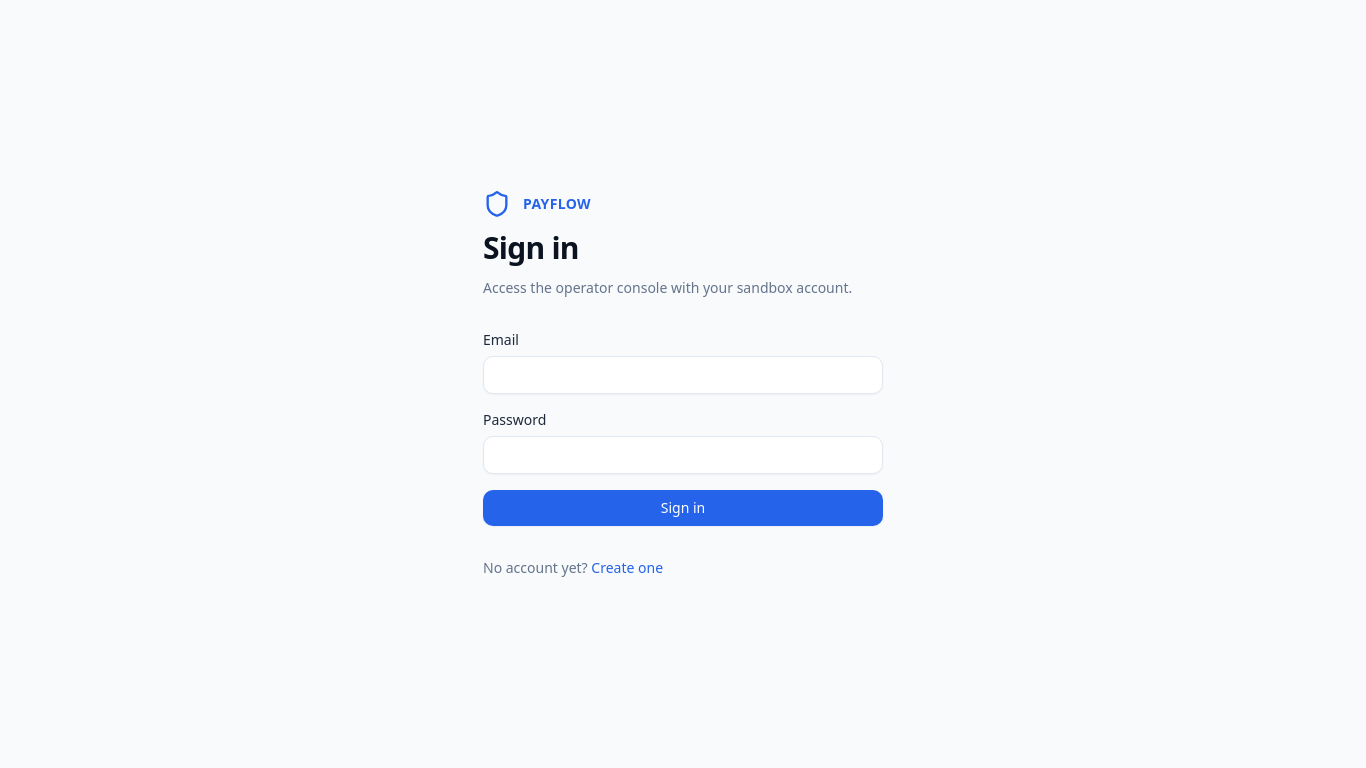
Test case: login and registration UI › logs in successfully and lands on the dashboard
The width and height of the screenshot is (1366, 768).
Expected: the heading "Sign in" is shown, left=483, top=227, right=579, bottom=268
Type "operator@example.com" into the field labelled "Email" at (683, 375), box left=483, top=356, right=883, bottom=394
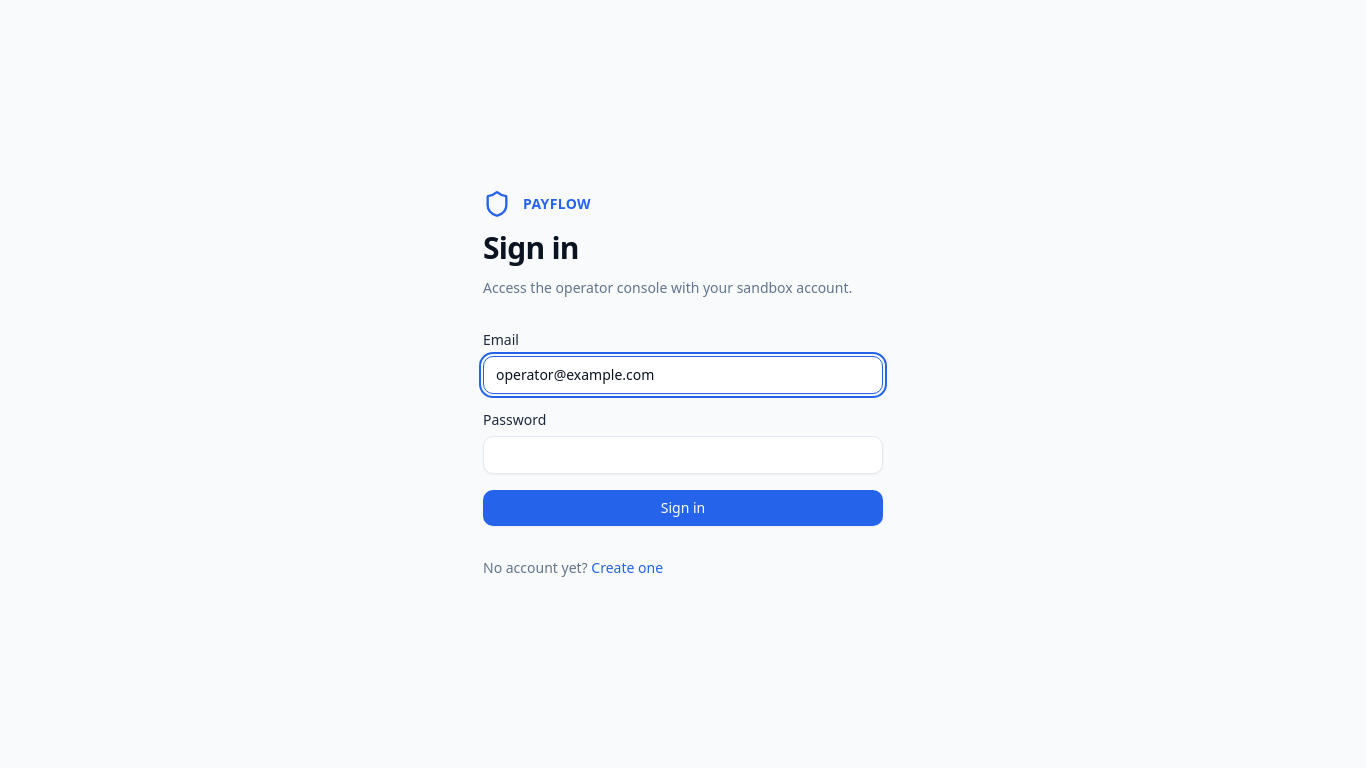
Type "Str0ngPass!" into the password field labelled "Password" at (683, 455), box left=483, top=436, right=883, bottom=474
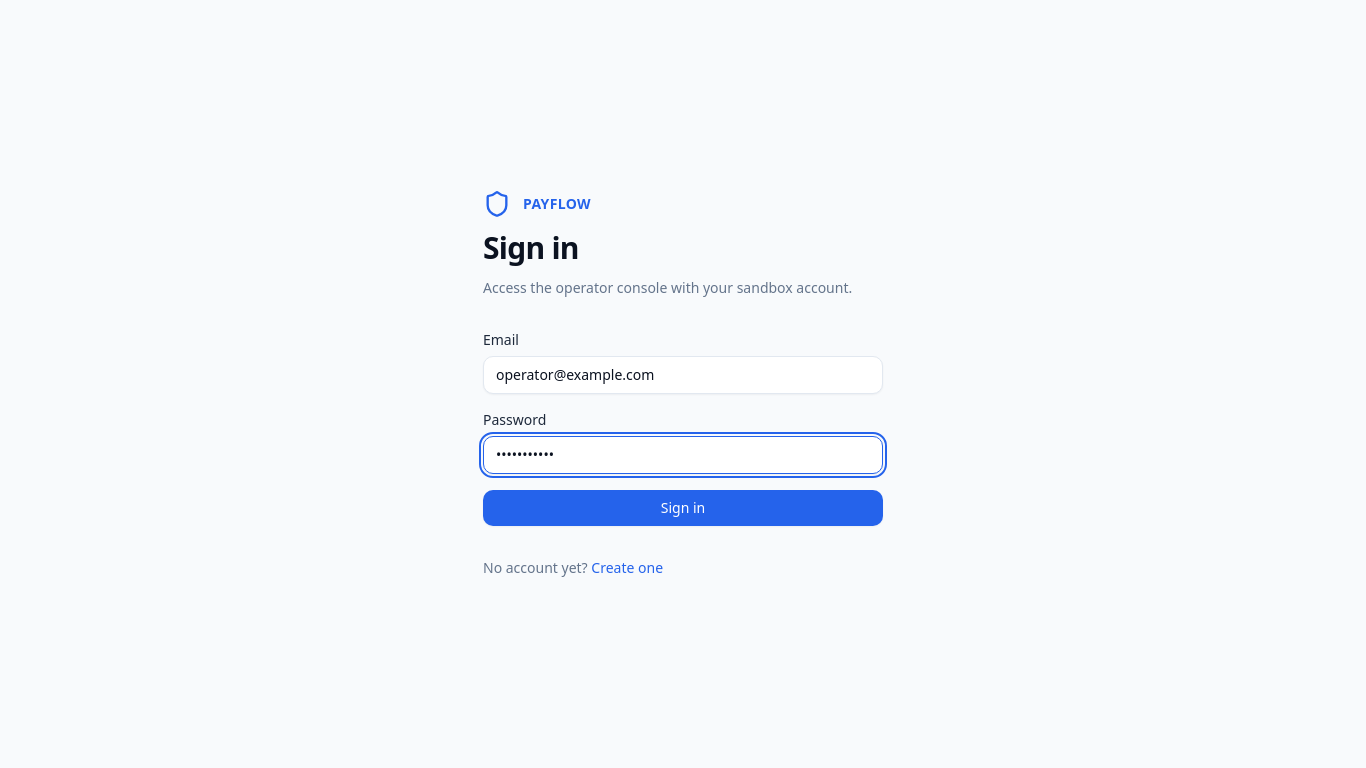
Click the button "Sign in" at (683, 508), box left=483, top=490, right=883, bottom=526
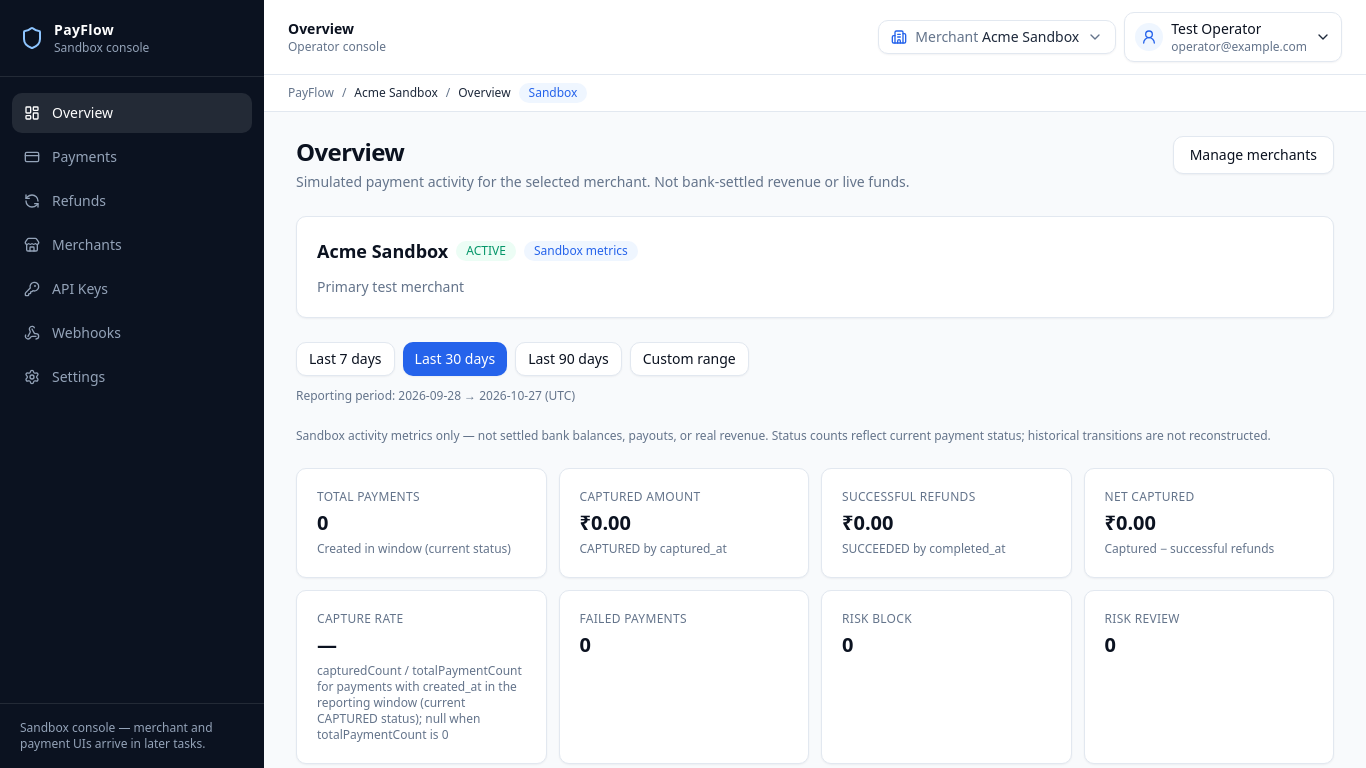
Now the heading "Overview" is shown, box left=296, top=135, right=404, bottom=168
Now the text "Test Operator" is shown, box left=1171, top=19, right=1262, bottom=39
